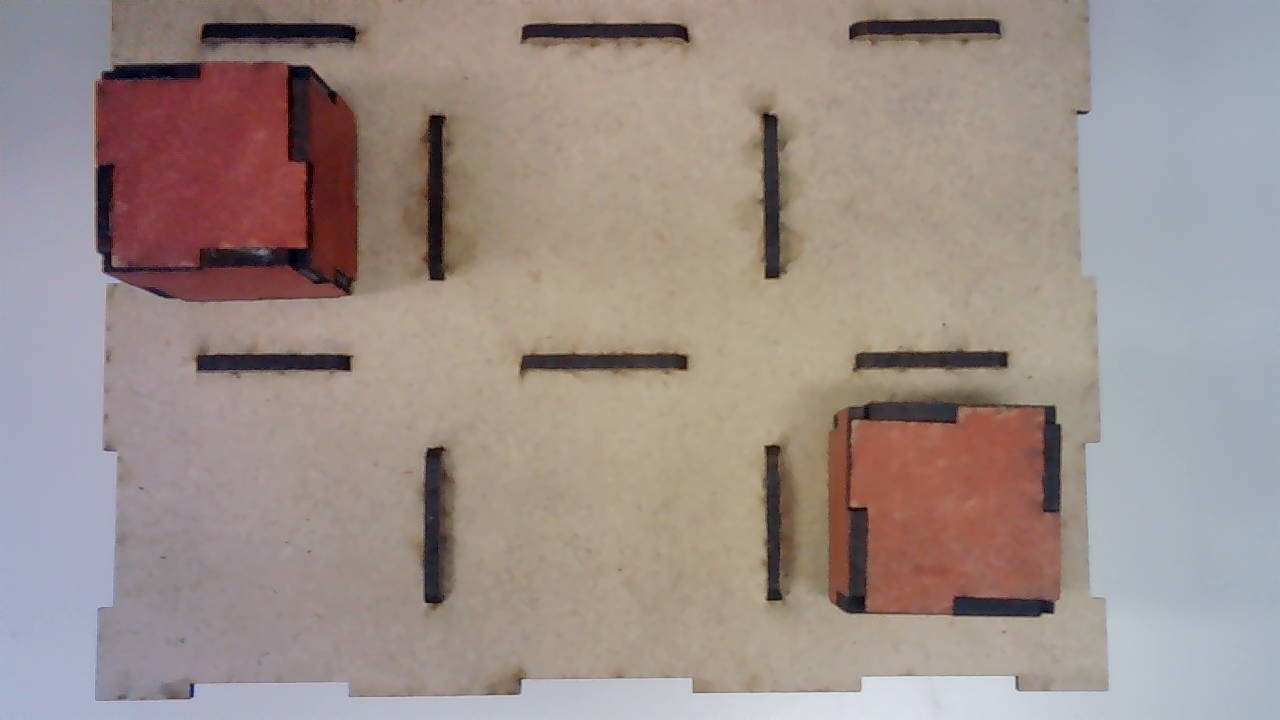red box: (88, 59, 362, 301), (826, 402, 1065, 624)
